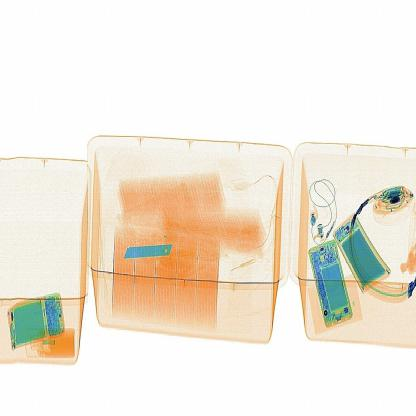pliers: (117, 231, 178, 265)
